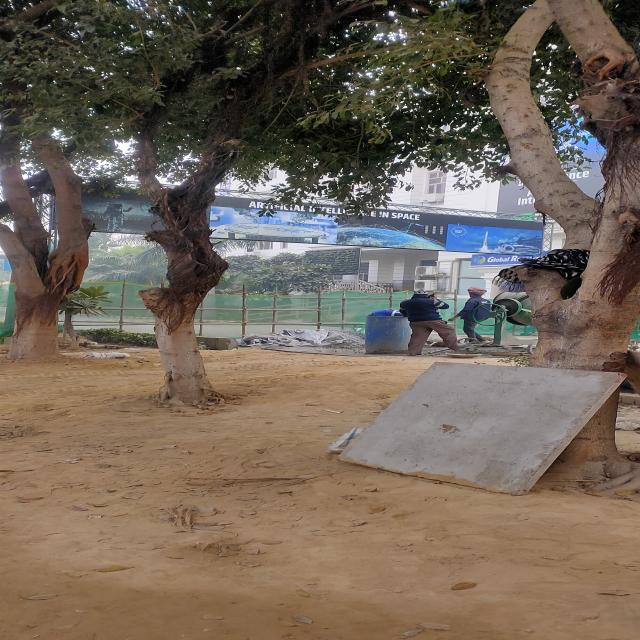unsafe: (402, 290, 449, 355), (456, 286, 499, 344)
